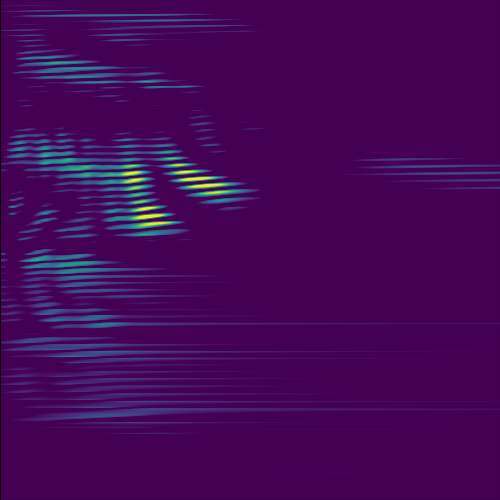semblance: (122, 196, 183, 239), (107, 155, 154, 201)
